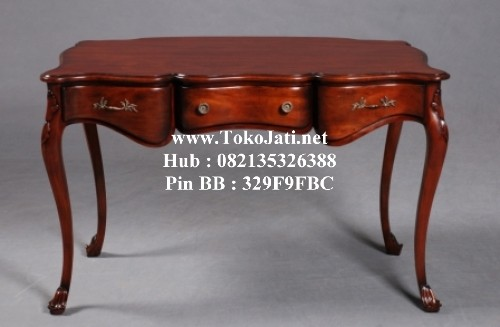Carving Table: (37, 33, 467, 315)
